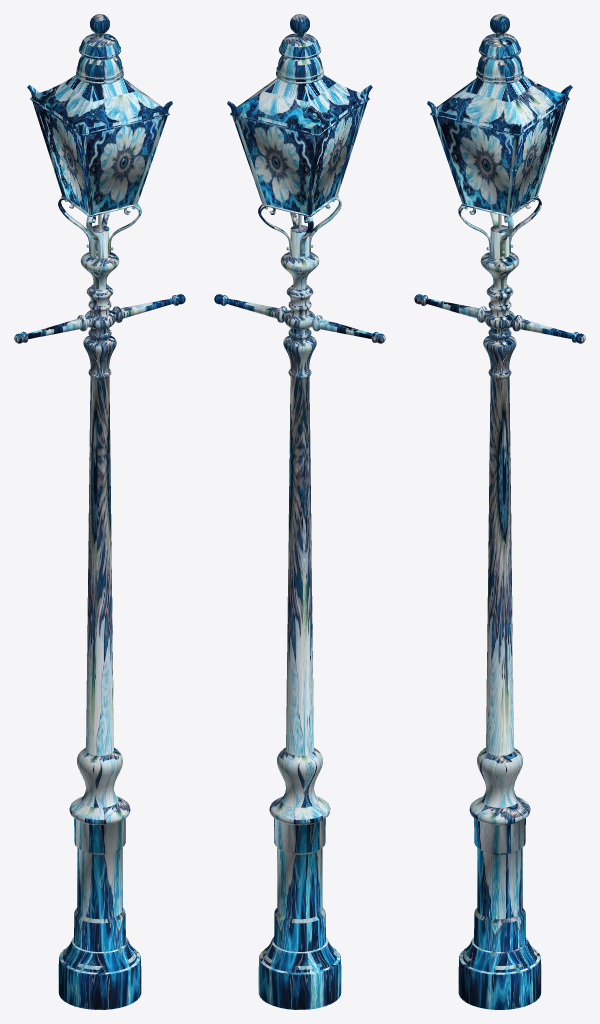
The model's file is ph_street_lamp_01.glb.
The picture shows the model from 3 angles, left to right: view 1: azimuth 30°, elevation 25°; view 2: azimuth 150°, elevation 25°; view 3: azimuth 330°, elevation 25°; orthographic projection.
Visible parts, largest first — view 1: A; view 2: A; view 3: A.
Part boxes in pixels (<box>): A: <box>14,14,185,1009</box>; A: <box>214,14,385,1009</box>; A: <box>414,14,585,1009</box>.
Bounding box in the file's own units: 0.3639 × 2 × 0.1997.
3 materials, 3 textured.
